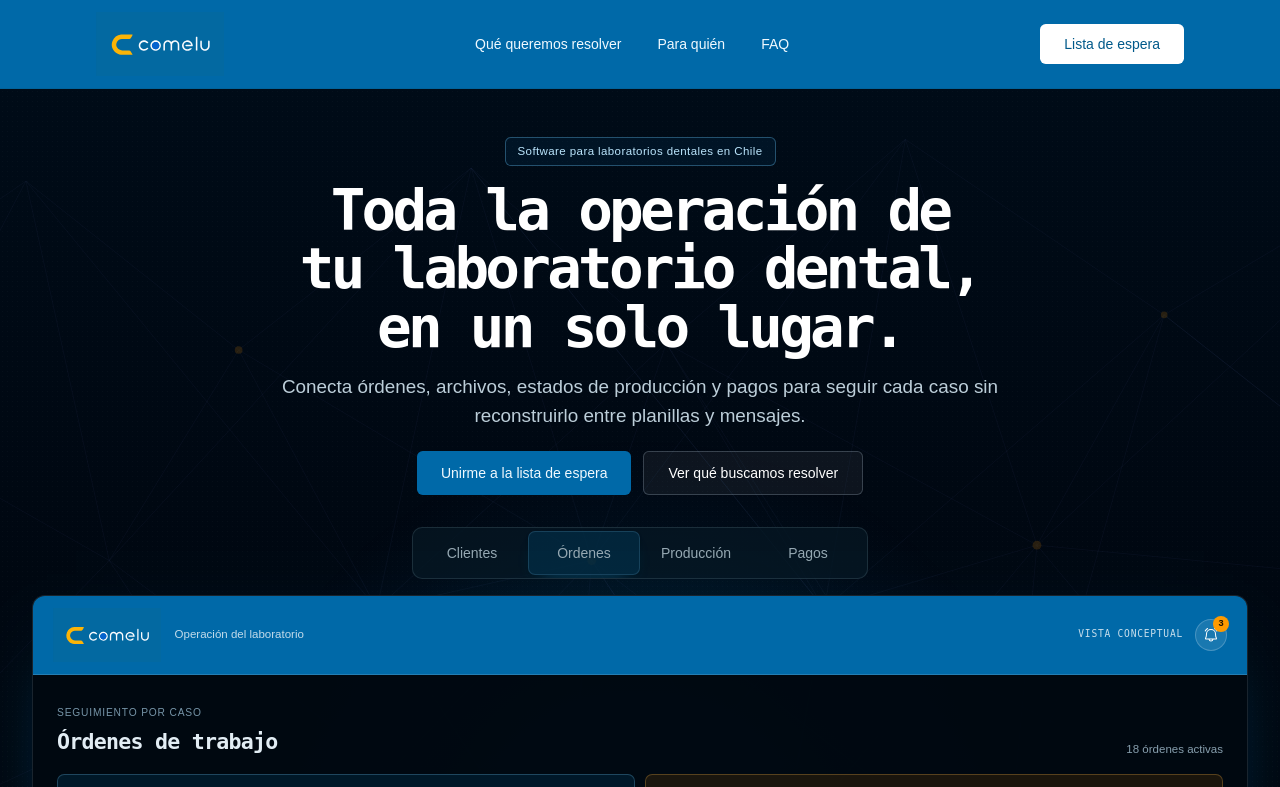
Test case: Comelu landing › switches product previews through accessible shadcn tabs
The width and height of the screenshot is (1280, 787).
Click the tab "Producción".
click(696, 553)  # box [640,531,752,575]
(page scrolled)
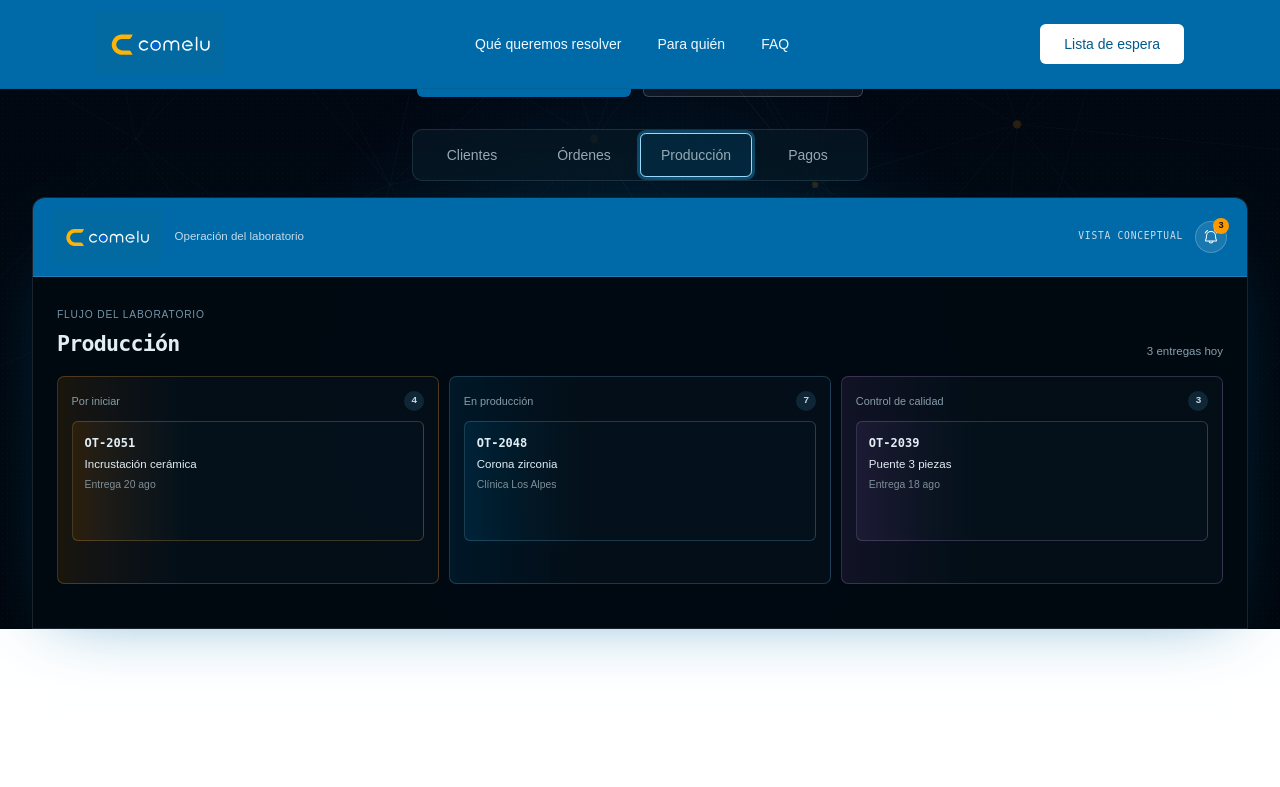
Expected: the text "Por iniciar" is shown, [72,393,120,409]
Now the text "Control de calidad" is shown, box [856,393,944,409]
